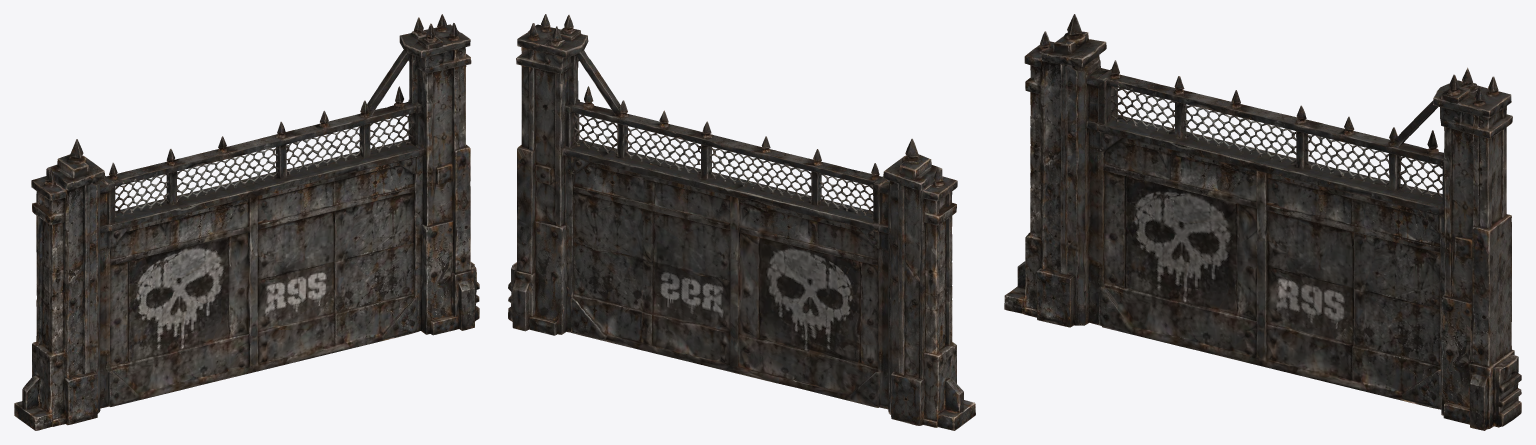
Rendered from skull_gate.glb.
3 views of the same model, side by side, from view 1: azimuth 30°, elevation 25°; view 2: azimuth 150°, elevation 25°; view 3: azimuth 330°, elevation 25° (orthographic). The views are drawn at different scales.
Bounding box in the file's own units: 1.9 × 1.25 × 0.216.
1 material, 1 textured.
